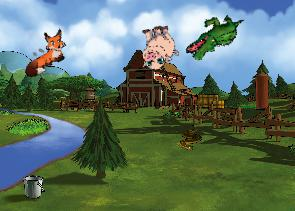crocodile: (183, 2, 245, 71)
fox: (13, 25, 75, 80)
pig: (134, 22, 180, 71)
